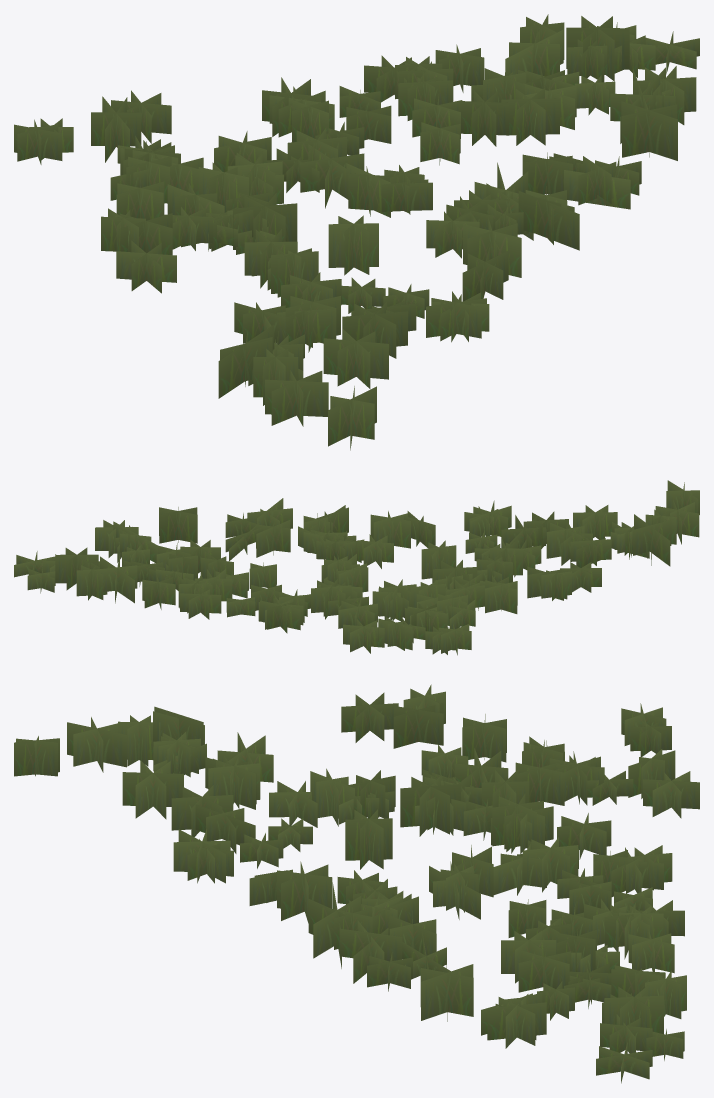
File: TRB8-GRASS-CHUNK-3-6.glb
The picture shows the model from 3 angles, top to bottom: view 1: azimuth 30°, elevation 25°; view 2: azimuth 150°, elevation 25°; view 3: azimuth 270°, elevation 25°; orthographic projection. The views are drawn at different scales.
Parts seen in each view (by area): view 1: TRB8-GRASS-CHUNK-3-6; view 2: TRB8-GRASS-CHUNK-3-6; view 3: TRB8-GRASS-CHUNK-3-6.
Part boxes in pixels (left/top/right/bottom): TRB8-GRASS-CHUNK-3-6: left=14, top=14, right=699, bottom=450; TRB8-GRASS-CHUNK-3-6: left=14, top=480, right=699, bottom=655; TRB8-GRASS-CHUNK-3-6: left=14, top=684, right=699, bottom=1083.
Size of the model in its own units: 7.62 by 0.9785 by 6.73.
Materials: 1 (1 with a texture image).
